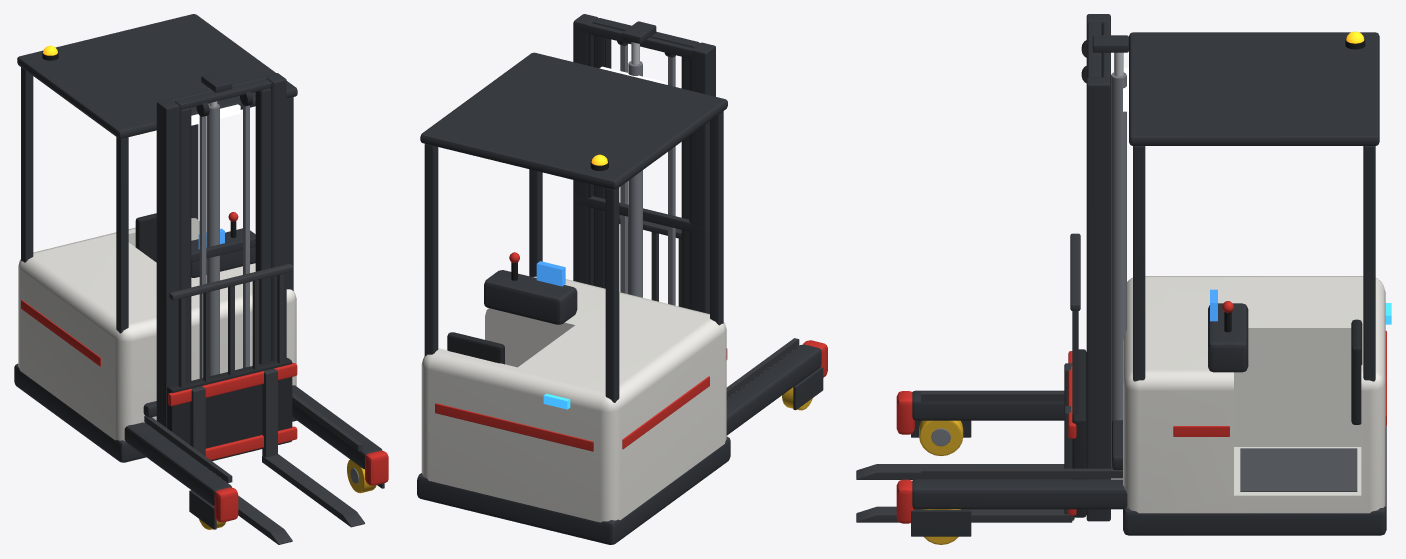
The model's file is reach_truck.glb.
3 views of the same model, side by side, from view 1: azimuth 30°, elevation 25°; view 2: azimuth 150°, elevation 25°; view 3: azimuth 270°, elevation 25° (orthographic). The views are drawn at different scales.
Parts seen in each view (by area): view 1: body_geo, fork_carriage_geo, mast_outer_geo, mast_inner_geo, wheel_LL_geo; view 2: body_geo, mast_outer_geo, mast_inner_geo, fork_carriage_geo; view 3: body_geo, mast_outer_geo, fork_carriage_geo, mast_inner_geo, wheel_LR_geo.
Boxes of the visible parts, x1,y1,x2,y2 form: body_geo: [14, 14, 388, 529]; fork_carriage_geo: [167, 263, 364, 544]; mast_outer_geo: [156, 73, 286, 427]; mast_inner_geo: [175, 72, 271, 381]; wheel_LL_geo: [347, 459, 376, 493]; body_geo: [417, 52, 827, 544]; mast_outer_geo: [573, 14, 715, 313]; mast_inner_geo: [593, 18, 699, 308]; fork_carriage_geo: [619, 214, 727, 359]; body_geo: [896, 32, 1391, 536]; mast_outer_geo: [1086, 14, 1126, 521]; fork_carriage_geo: [856, 233, 1086, 522]; mast_inner_geo: [1081, 22, 1128, 83]; wheel_LR_geo: [919, 420, 963, 455].
Bounding box in the file's own units: 1.25 × 2.5 × 2.65.
